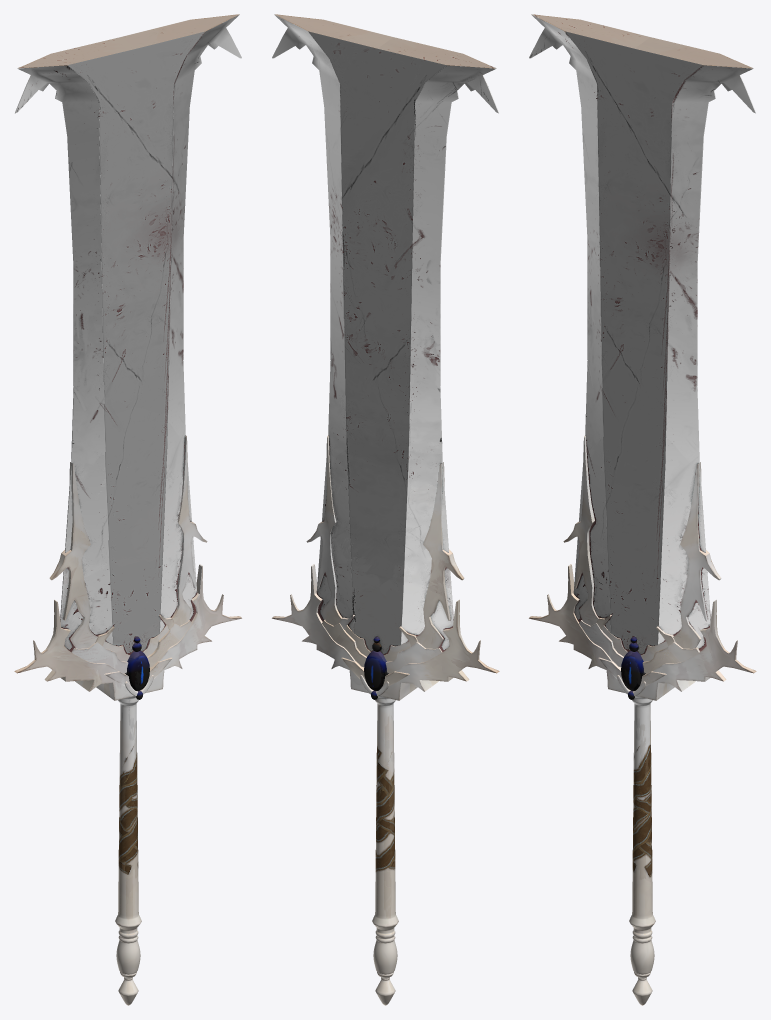
Rendered from Preview5.glb.
The picture shows the model from 3 angles, left to right: view 1: azimuth 30°, elevation 25°; view 2: azimuth 150°, elevation 25°; view 3: azimuth 330°, elevation 25°; orthographic projection.
Visible parts, largest first — view 1: group4_pCylinder1; view 2: group4_pCylinder1; view 3: group4_pCylinder1.
Part boxes in pixels (<box>): group4_pCylinder1: <box>14,14,241,1005</box>; group4_pCylinder1: <box>272,14,499,1005</box>; group4_pCylinder1: <box>529,14,756,1005</box>.
Bounding box in the file's own units: 0.5866 × 2.38 × 0.1177.
1 material, 1 textured.
